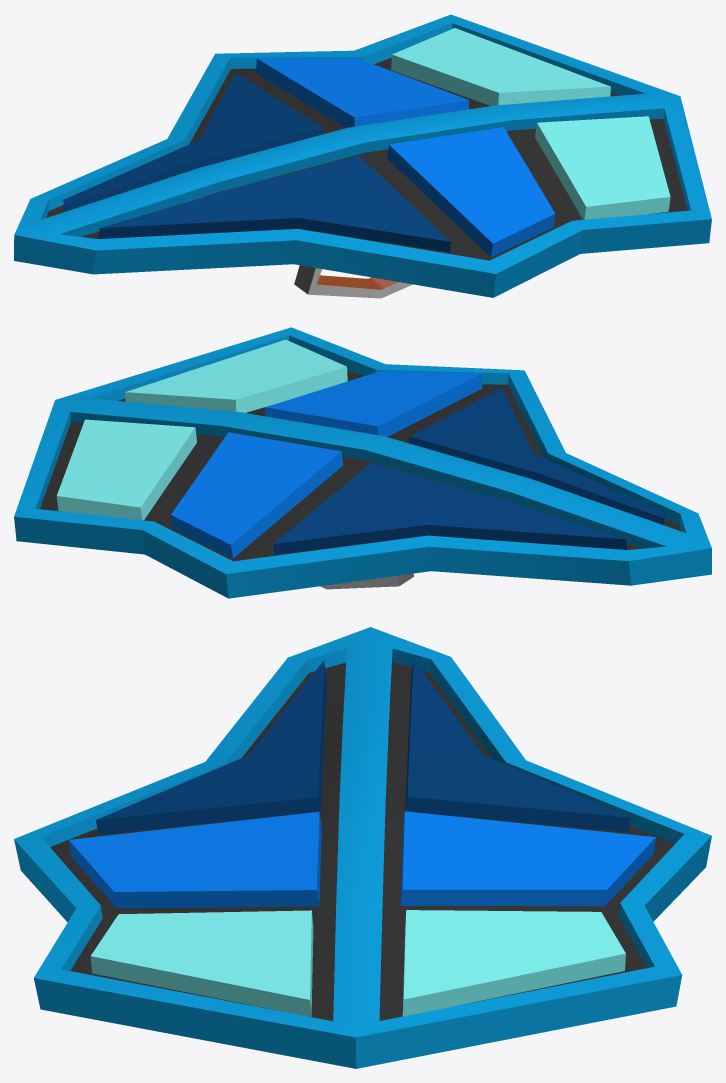
File: Escudo_Clara.gltf
3 views of the same model, one above another, from view 1: azimuth 30°, elevation 25°; view 2: azimuth 150°, elevation 25°; view 3: azimuth 270°, elevation 25° (orthographic). The views are drawn at different scales.
Visible parts, largest first — view 1: Escudo Clara; view 2: Escudo Clara; view 3: Escudo Clara.
Part boxes in pixels (x1,y1,x2,y2): Escudo Clara: [14, 14, 711, 298]; Escudo Clara: [14, 327, 711, 598]; Escudo Clara: [14, 627, 711, 1068].
Bounding box in the file's own units: 0.8589 × 0.1619 × 0.6515.
Materials: 1 (1 with a texture image).
